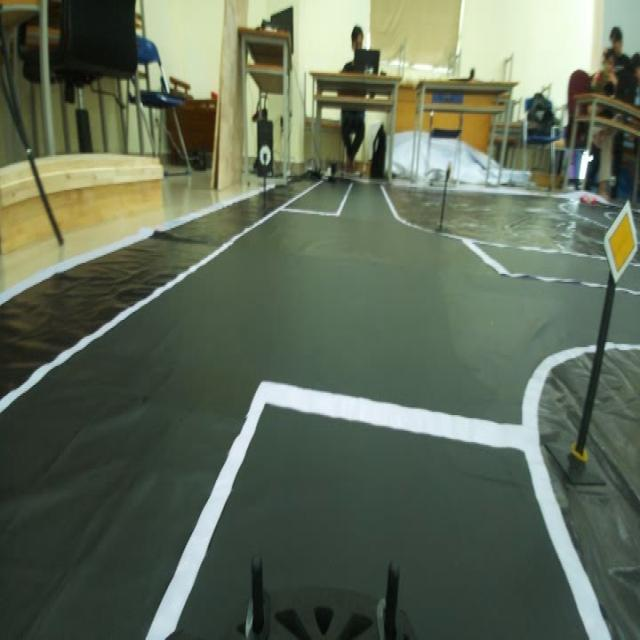priority: (594, 197, 640, 290)
